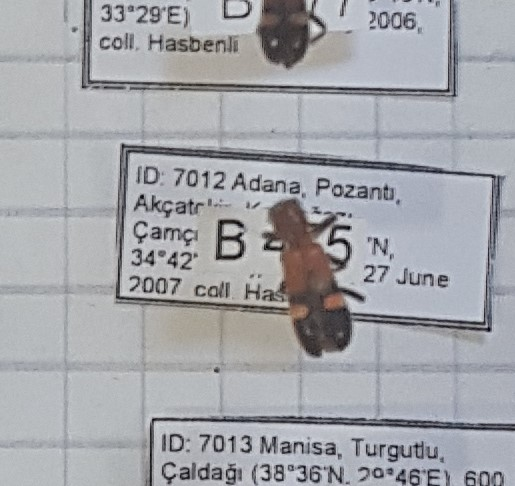opilo_taeniatus: (265, 196, 359, 364)
